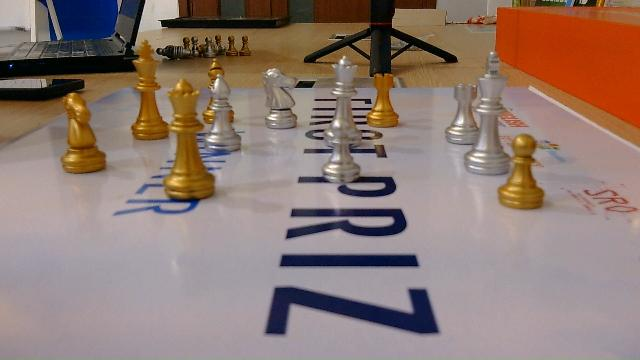black_king: (131, 38, 163, 140)
black_knight: (60, 92, 107, 173)
black_pawn: (501, 134, 546, 209), (323, 120, 362, 182)
black_queen: (167, 78, 202, 199), (330, 55, 362, 144)
black_rook: (366, 72, 401, 128)
white_bishop: (208, 73, 240, 150)
white_king: (469, 46, 510, 174)
white_knight: (262, 68, 299, 130)
white_rook: (446, 83, 477, 143)
